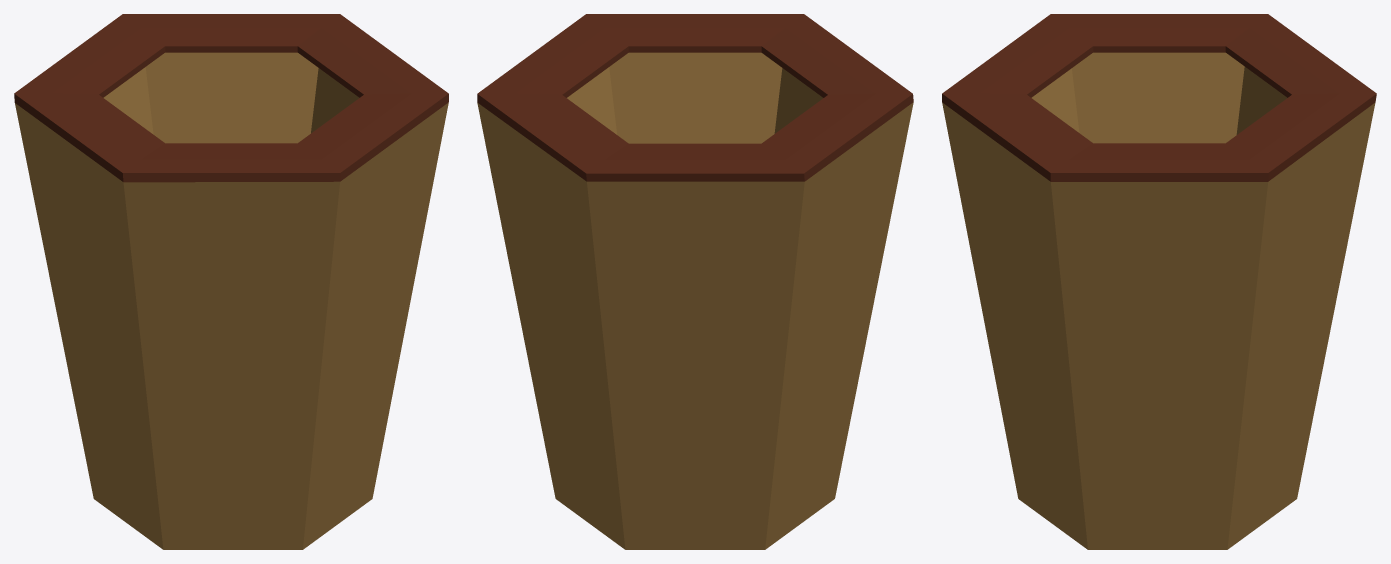
The model's file is Trash.fbx.
The picture shows the model from 3 angles, left to right: view 1: azimuth 30°, elevation 25°; view 2: azimuth 150°, elevation 25°; view 3: azimuth 270°, elevation 25°; orthographic projection.
Visible parts, largest first — view 1: Cylinder; view 2: Cylinder; view 3: Cylinder.
Boxes of the visible parts, box(x1,y1,x2,y2) form: Cylinder: box(14, 14, 448, 549); Cylinder: box(477, 14, 913, 549); Cylinder: box(942, 14, 1376, 549).
Bounding box in the file's own units: 173 × 206 × 200.
